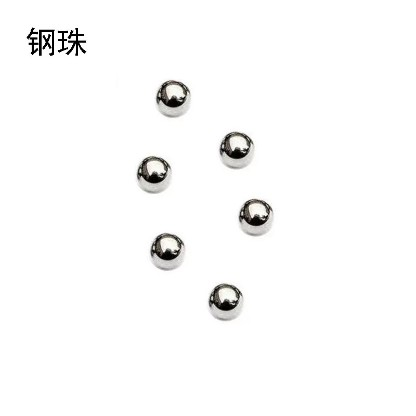ironball: (149, 231, 185, 270), (135, 154, 171, 193), (237, 197, 273, 236), (207, 282, 243, 320), (154, 79, 190, 117), (218, 130, 254, 168)
